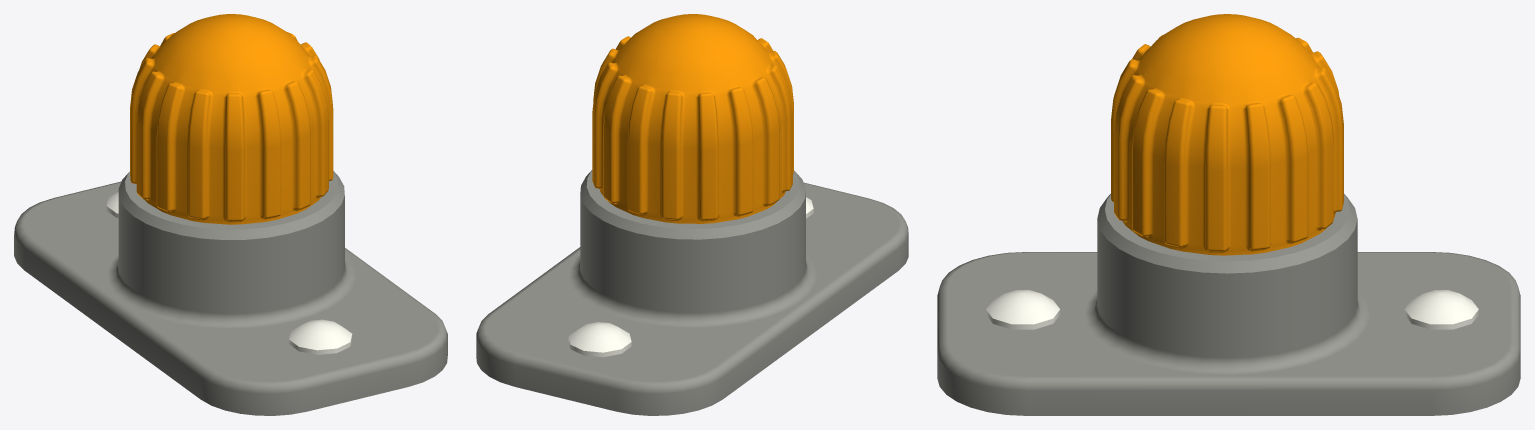
The model's file is Knob #17.fbx.
3 views of the same model, side by side, from view 1: azimuth 30°, elevation 25°; view 2: azimuth 150°, elevation 25°; view 3: azimuth 270°, elevation 25° (orthographic). The views are drawn at different scales.
Visible parts, largest first — view 1: kitbash_67; view 2: kitbash_67; view 3: kitbash_67.
Part boxes in pixels (x1,y1,x2,y2): kitbash_67: (14, 14, 447, 415); kitbash_67: (476, 14, 908, 415); kitbash_67: (937, 14, 1520, 415).
Size of the model in its own units: 3.33 by 3.82 by 6.2.
